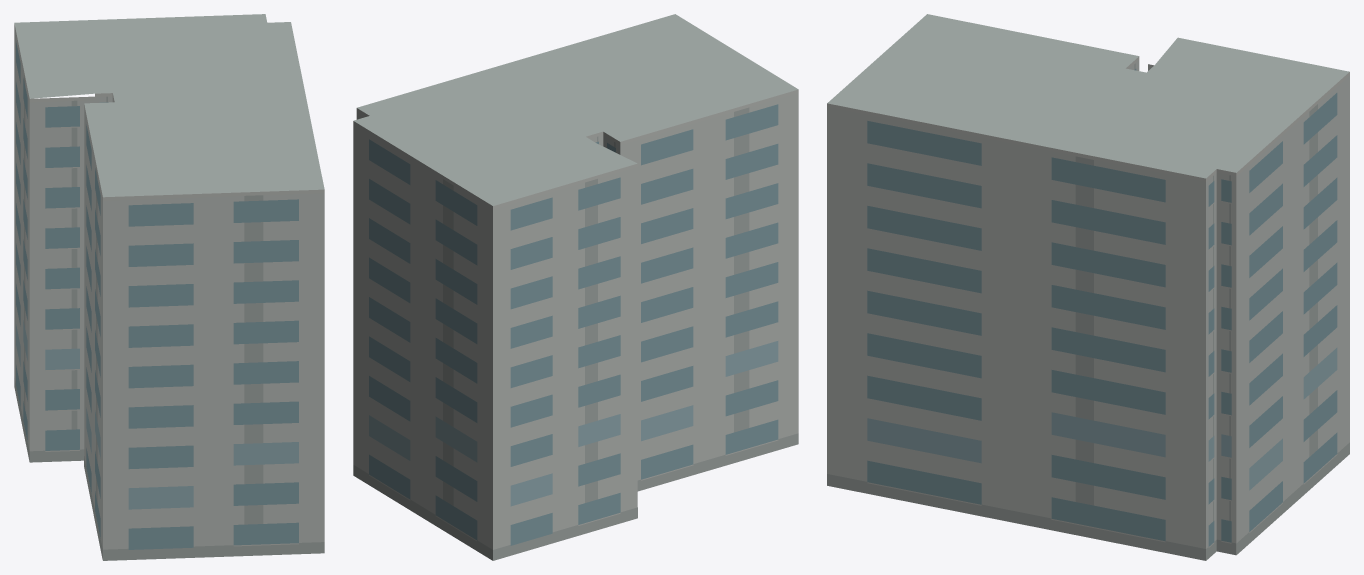
File: survey-upis-32550465.glb
3 renders of one model, left to right at view 1: azimuth 30°, elevation 25°; view 2: azimuth 150°, elevation 25°; view 3: azimuth 270°, elevation 25°, orthographic. The views are drawn at different scales.
Parts seen in each view (by area): view 1: survey-upis-32550465.tmp; view 2: survey-upis-32550465.tmp; view 3: survey-upis-32550465.tmp.
Part boxes in pixels (x1,y1,x2,y2): survey-upis-32550465.tmp: [14, 14, 324, 560]; survey-upis-32550465.tmp: [353, 14, 798, 560]; survey-upis-32550465.tmp: [827, 14, 1349, 560].
Size of the model in its own units: 23.26 by 25.2 by 31.23.
